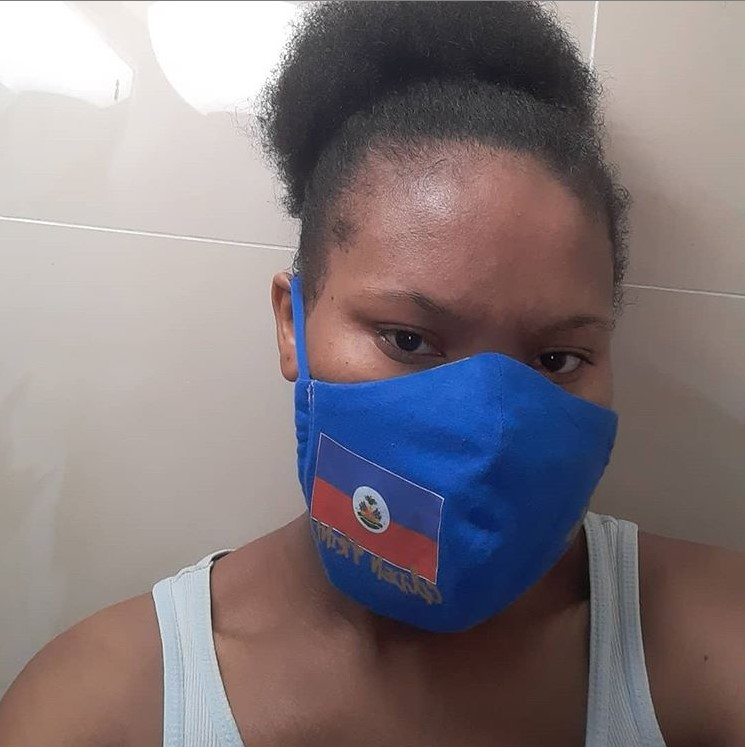face_with_mask: (266, 76, 626, 631)
